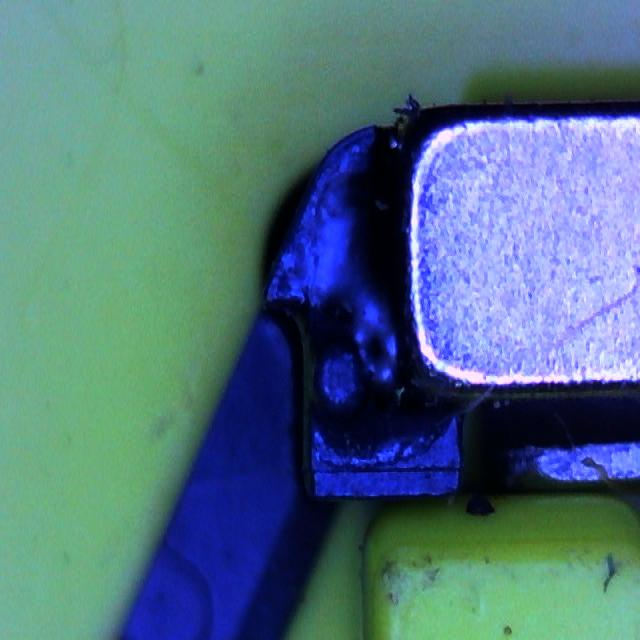over: (315, 170, 389, 350)
